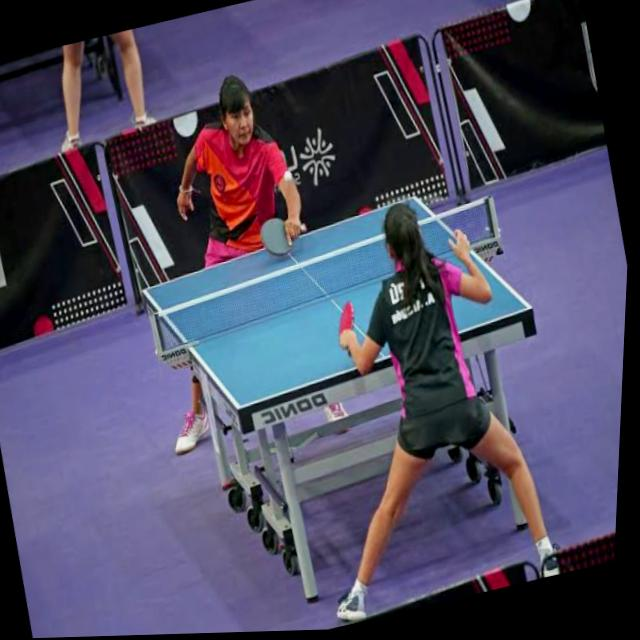TT Net: (145, 188, 506, 364)
TT Racket: (253, 213, 298, 265), (335, 293, 363, 354)
TT Table: (142, 197, 530, 410)
